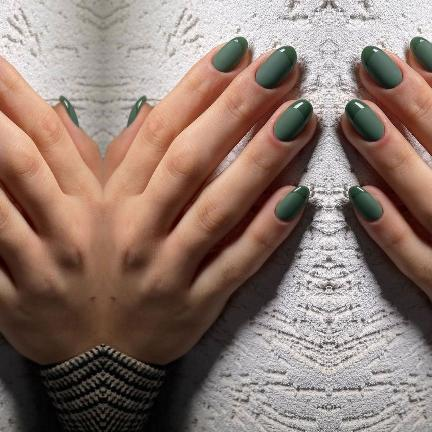Nail: (361, 46, 403, 89), (255, 46, 296, 89), (273, 100, 313, 142), (345, 100, 385, 142), (211, 36, 247, 73), (275, 186, 310, 222), (348, 186, 383, 222), (410, 36, 432, 73), (126, 96, 145, 127), (59, 96, 78, 127)
